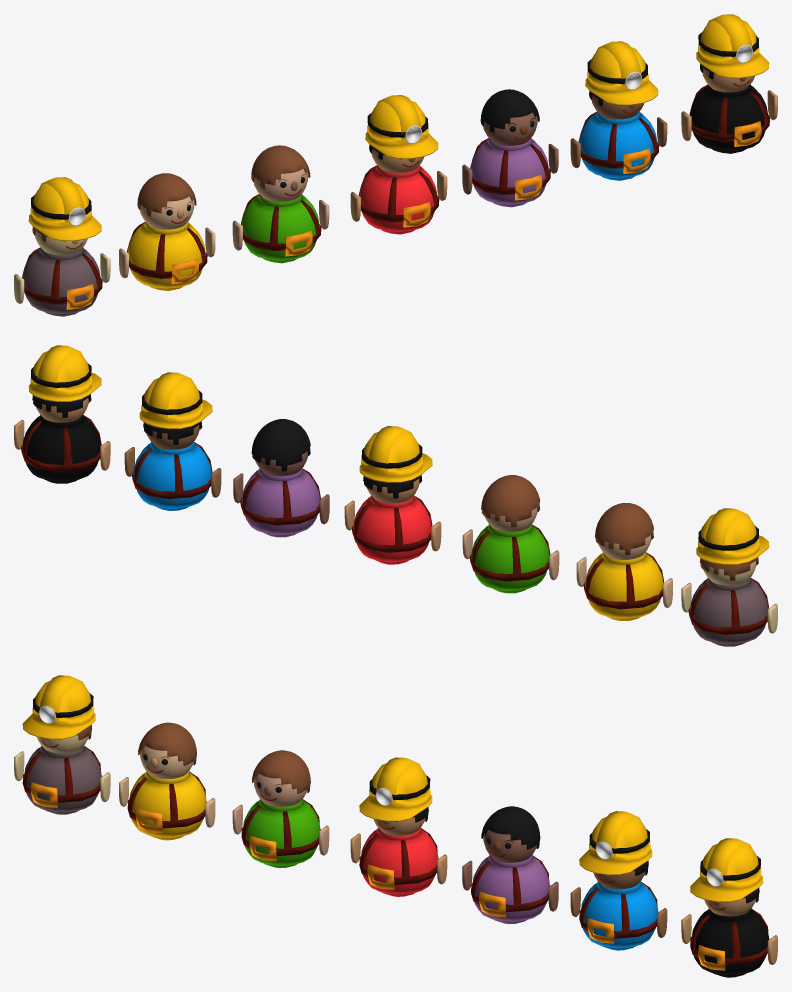
File: Mineradores.fbx
3 renders of one model, top to bottom at view 1: azimuth 30°, elevation 25°; view 2: azimuth 150°, elevation 25°; view 3: azimuth 330°, elevation 25°, orthographic.
Visible parts, largest first — view 1: Minerador infectado, Minerador 6, Minerador 4, Minerador 1, Minerador 3, Minerador 5, Minerador 2; view 2: Minerador 4, Minerador infectado, Minerador 6, Minerador 1, Minerador 5, Minerador 3, Minerador 2; view 3: Minerador 4, Minerador 1, Minerador 6, Minerador infectado, Minerador 3, Minerador 5, Minerador 2.
Boxes of the visible parts, <box> form: Minerador infectado: <box>681,14,777,153</box>; Minerador 6: <box>570,41,667,180</box>; Minerador 4: <box>350,95,447,234</box>; Minerador 1: <box>14,177,110,316</box>; Minerador 3: <box>232,145,329,263</box>; Minerador 5: <box>462,89,558,207</box>; Minerador 2: <box>119,173,215,290</box>; Minerador 4: <box>344,426,441,564</box>; Minerador infectado: <box>14,345,110,483</box>; Minerador 6: <box>124,372,221,510</box>; Minerador 1: <box>681,508,777,646</box>; Minerador 5: <box>233,419,329,537</box>; Minerador 3: <box>462,475,559,593</box>; Minerador 2: <box>576,503,672,620</box>; Minerador 4: <box>350,757,447,896</box>; Minerador 1: <box>14,675,110,814</box>; Minerador 6: <box>570,811,667,950</box>; Minerador infectado: <box>681,838,777,977</box>; Minerador 3: <box>232,750,329,868</box>; Minerador 5: <box>462,806,558,924</box>; Minerador 2: <box>119,722,215,840</box>.
Bounding box in the file's own units: 3839 × 643 × 386.
1 material, 1 textured.
